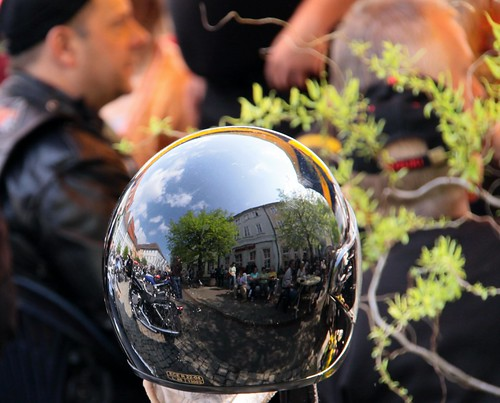helmet: (100, 117, 360, 387)
